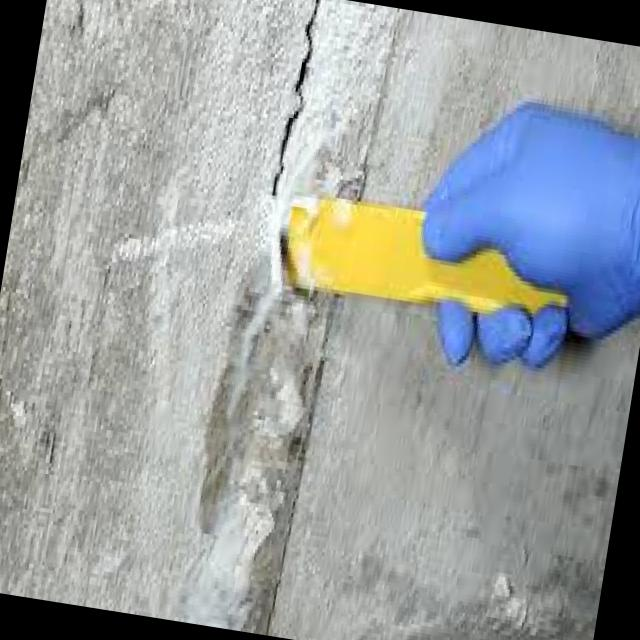crack: (266, 0, 323, 195)
